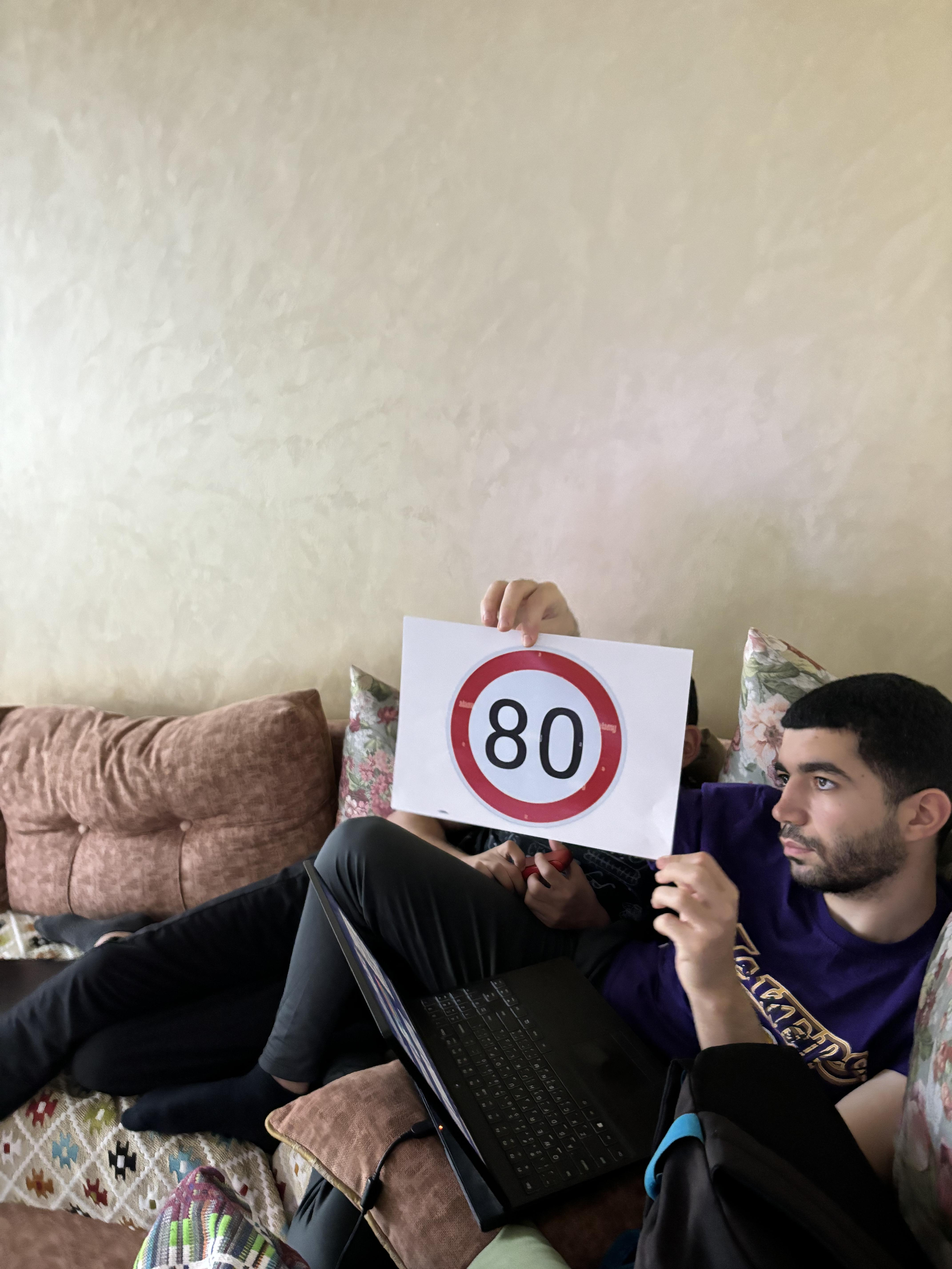80-Speed: (443, 642, 628, 829)
